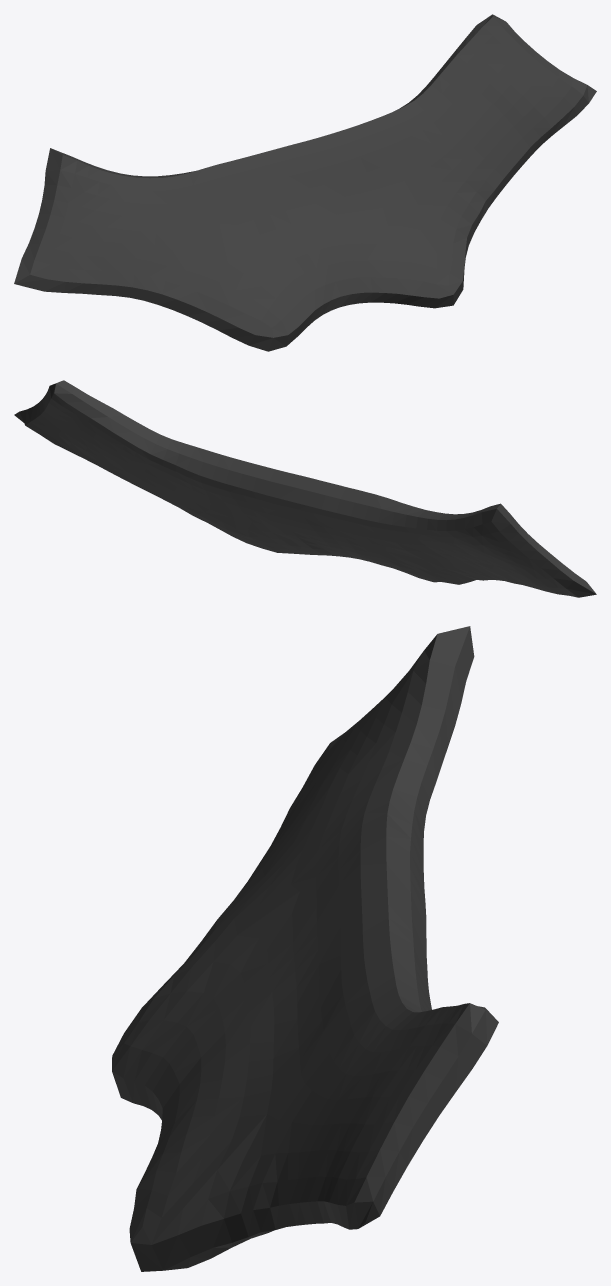
Rendered from Distal_navic_lig.glb.
3 renders of one model, top to bottom at view 1: azimuth 30°, elevation 25°; view 2: azimuth 150°, elevation 25°; view 3: azimuth 270°, elevation 25°, orthographic. The views are drawn at different scales.
Parts seen in each view (by area): view 1: Distal_navic_lig; view 2: Distal_navic_lig; view 3: Distal_navic_lig.
Boxes of the visible parts, x1,y1,x2,y2 form: Distal_navic_lig: [14, 14, 596, 351]; Distal_navic_lig: [14, 380, 596, 597]; Distal_navic_lig: [112, 626, 498, 1271].
Bounding box in the file's own units: 1.89 × 0.6073 × 0.5492.
1 material, 1 textured.
